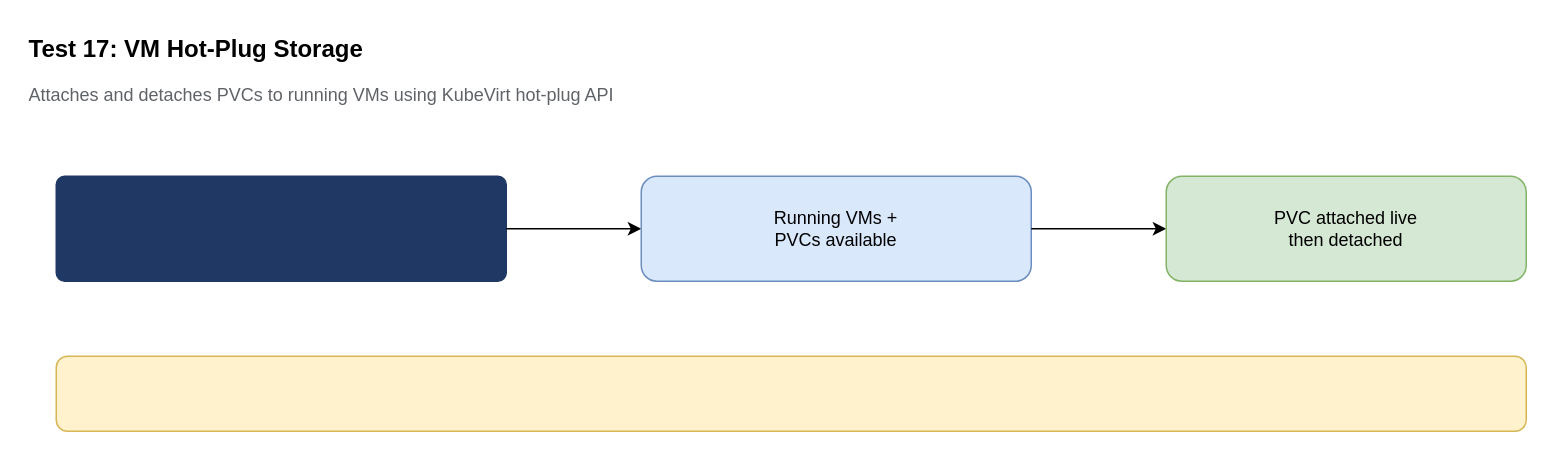
The diagram is 1553 pixels wide and 458 high, and some of its shapes have lost their labels. The shapes that lost their labels are listed below. From the top down, each one's centre as x and y in pixels, then its label:
At pixel 280 228: "kube-burner Job (quay.io/kube-burner/kube-burner:v2.6.1)".
At pixel 790 393: "📊 Measures: Attach time · Detach time · PVC provisioning latency".
